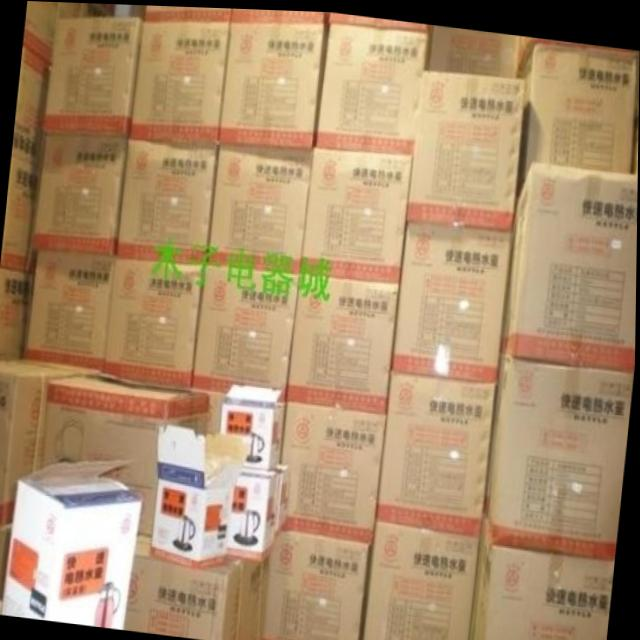box: (486, 350, 633, 555), (499, 157, 638, 369), (47, 367, 213, 536), (3, 461, 145, 629), (469, 502, 616, 640), (514, 42, 636, 206), (377, 366, 496, 534), (392, 219, 512, 382), (406, 66, 523, 225), (287, 270, 400, 414), (279, 399, 388, 542), (300, 145, 412, 280), (314, 19, 427, 152), (0, 357, 87, 523), (363, 520, 482, 640), (193, 264, 299, 398), (218, 16, 324, 147), (204, 143, 311, 272), (154, 423, 246, 568), (115, 136, 219, 264), (103, 257, 204, 387), (128, 16, 230, 141), (125, 533, 242, 640), (32, 131, 128, 257), (264, 531, 374, 640), (43, 16, 142, 136), (21, 246, 115, 370), (229, 463, 290, 559), (221, 379, 287, 465), (424, 21, 519, 75), (11, 45, 52, 165), (517, 31, 637, 72), (0, 155, 39, 269), (22, 1, 80, 62), (232, 556, 272, 640), (0, 268, 30, 357), (323, 9, 431, 30), (0, 522, 15, 603), (230, 7, 325, 19), (141, 4, 231, 16), (631, 94, 639, 168), (79, 2, 110, 18), (0, 599, 5, 613)
